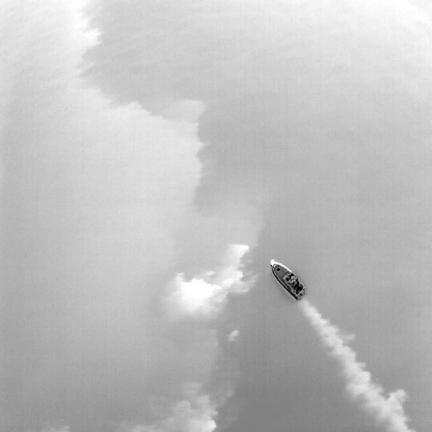flukeprints: (172, 274, 218, 313)
